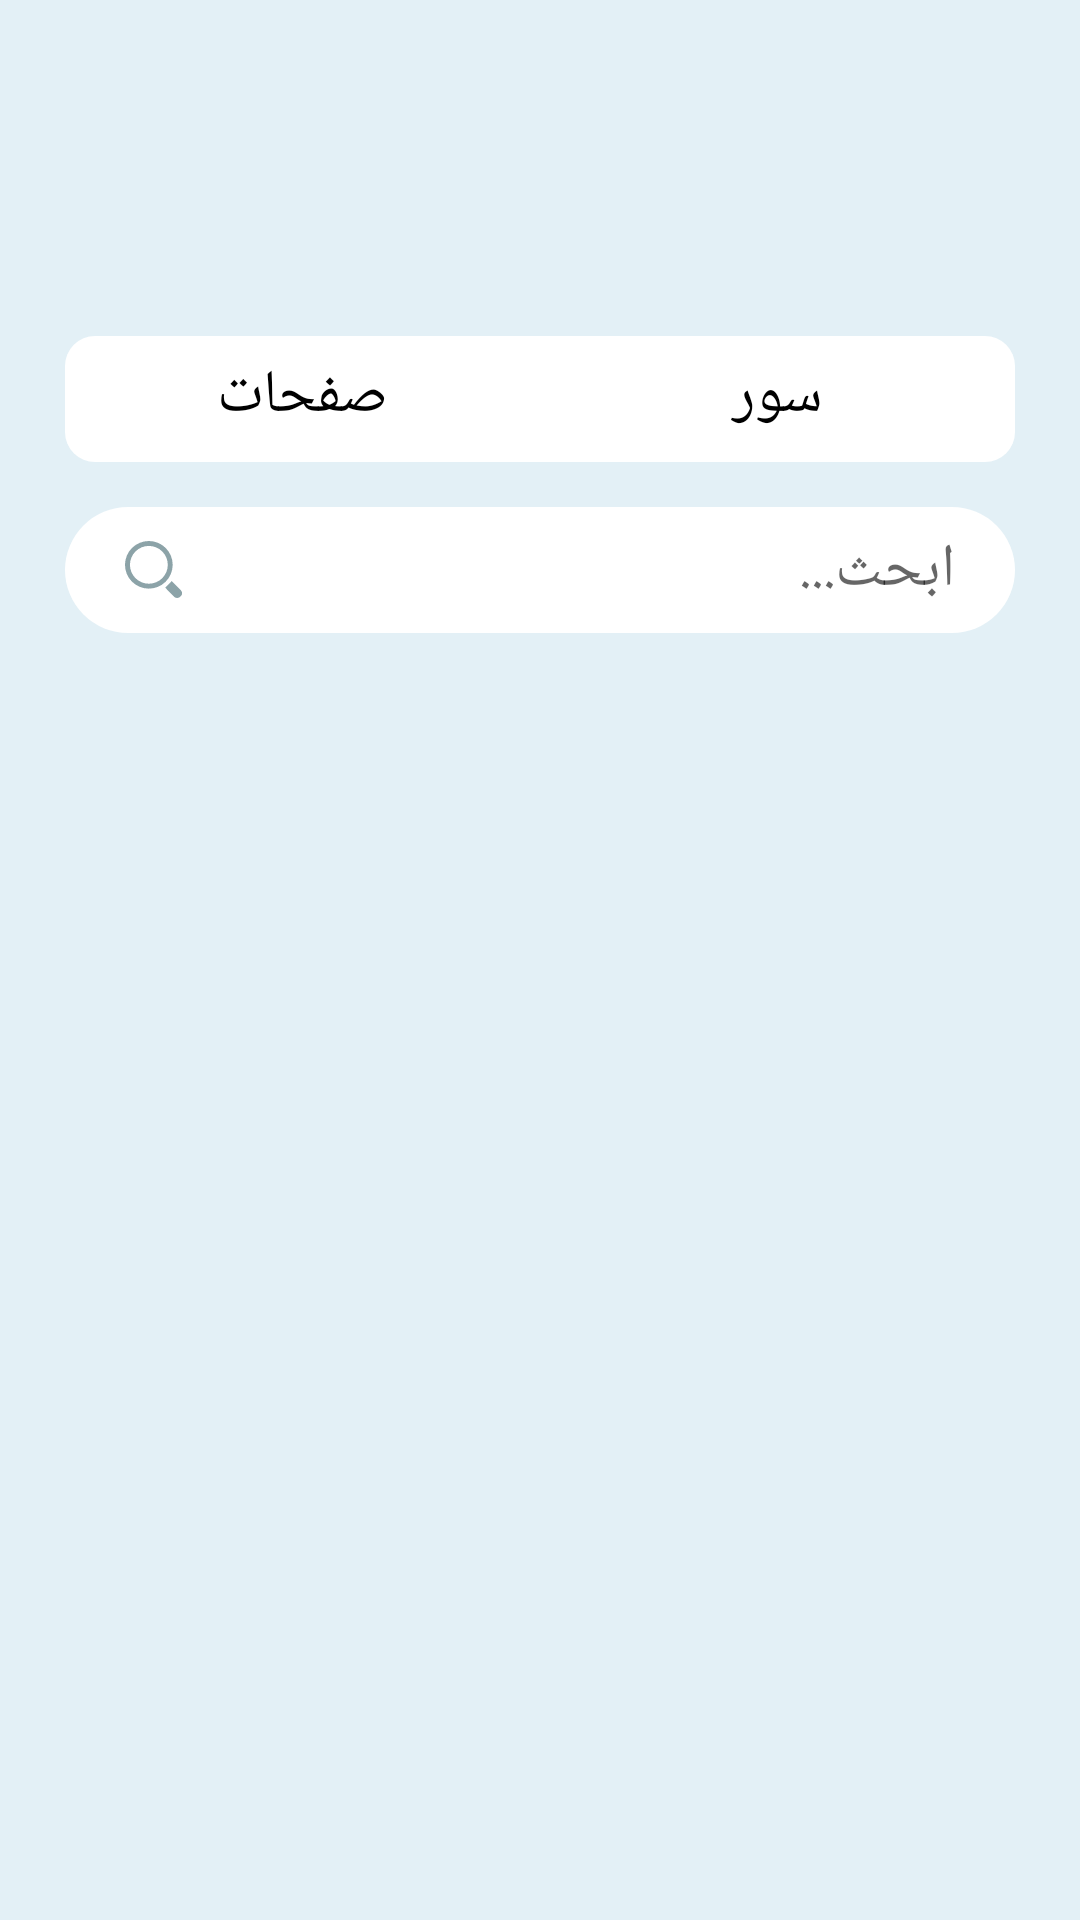

Where to tap for icons on this 1080x1920 app screen, as (x,y):
search: (153,569)
